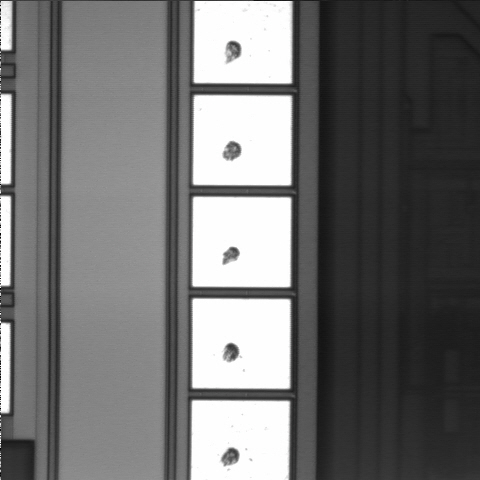pad: (193, 95, 291, 185), (193, 197, 291, 287), (192, 299, 290, 389)
